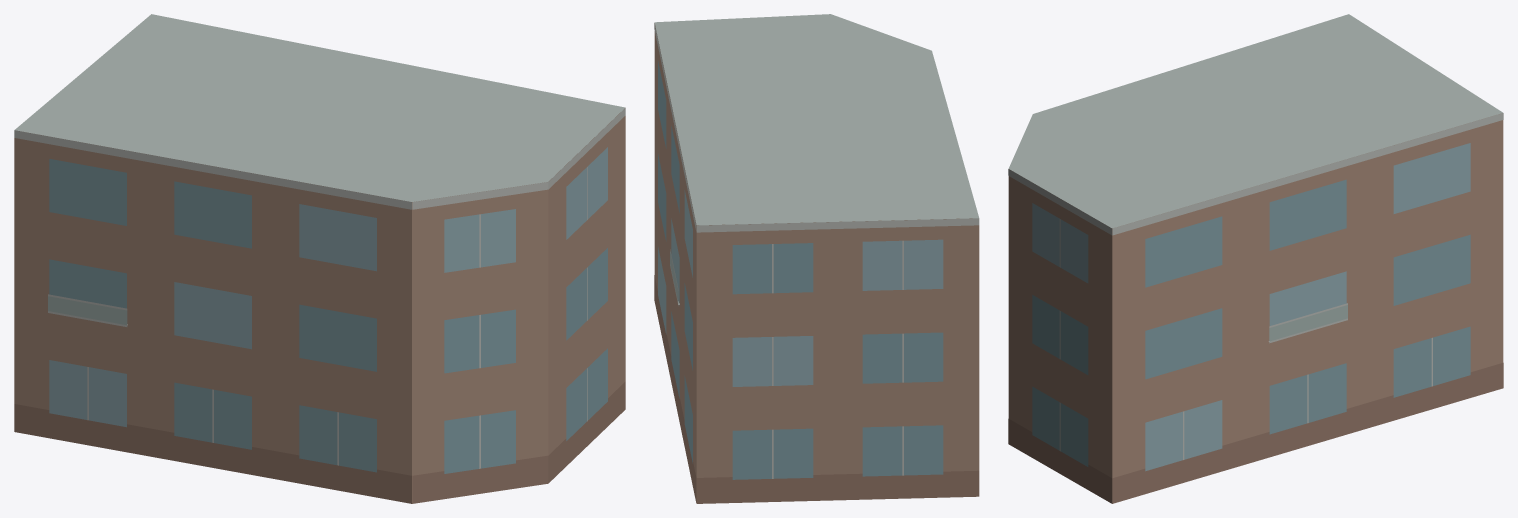
The model's file is survey-upis-32815649.glb.
3 renders of one model, left to right at view 1: azimuth 30°, elevation 25°; view 2: azimuth 150°, elevation 25°; view 3: azimuth 270°, elevation 25°, orthographic. The views are drawn at different scales.
Visible parts, largest first — view 1: survey-upis-32815649.tmp; view 2: survey-upis-32815649.tmp; view 3: survey-upis-32815649.tmp.
Boxes of the visible parts, x1=… form: survey-upis-32815649.tmp: x1=14, y1=14, x2=625, y2=503; survey-upis-32815649.tmp: x1=654, y1=14, x2=979, y2=503; survey-upis-32815649.tmp: x1=1008, y1=14, x2=1503, y2=503.
Size of the model in its own units: 15.88 by 9.5 by 15.48.
